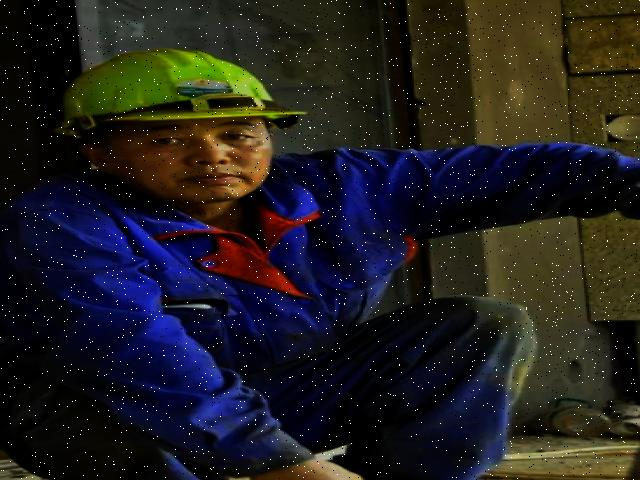Helmet: (41, 42, 320, 140)
